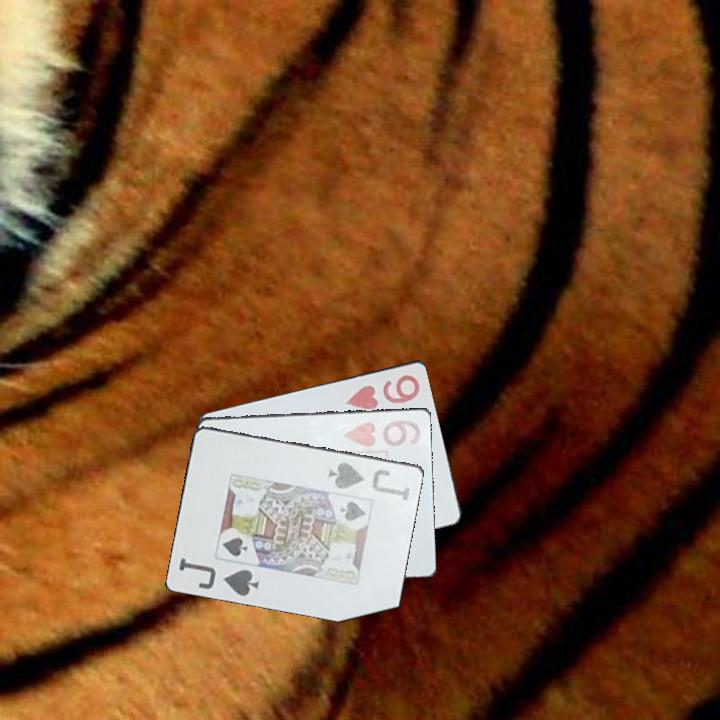6h: (339, 414, 424, 449)
9h: (340, 371, 423, 412)
Js: (325, 458, 416, 503), (176, 554, 263, 599)
